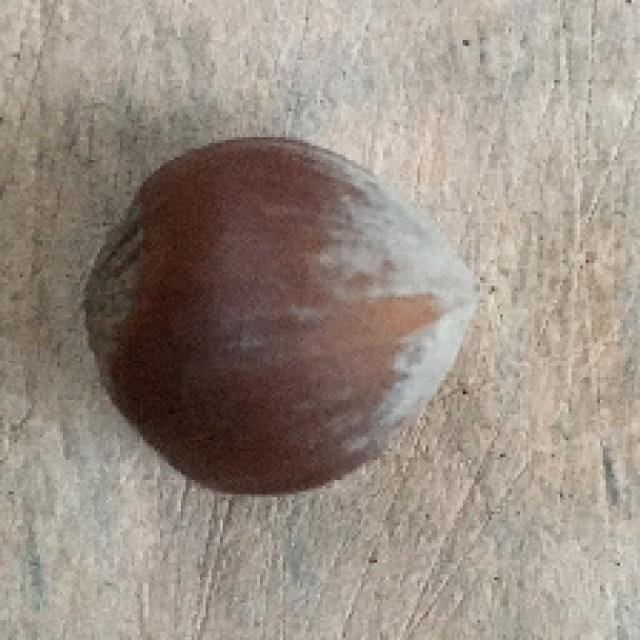damagedHazelnut: (75, 128, 484, 502)
